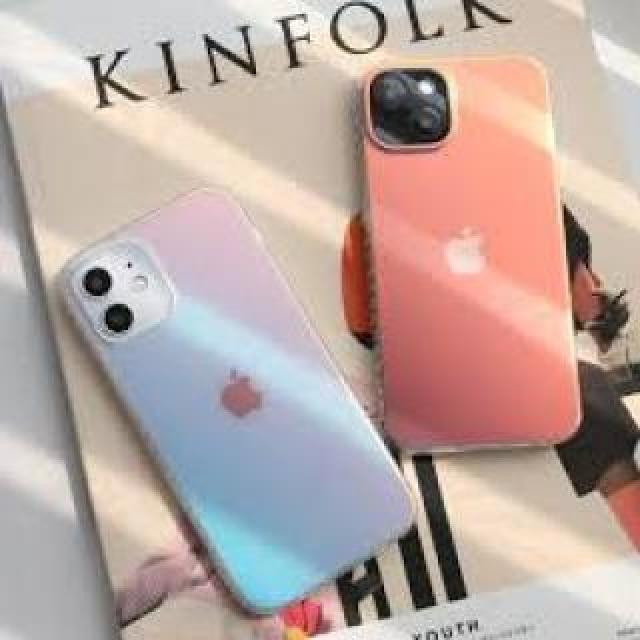smart phone: (63, 167, 400, 618), (357, 28, 580, 485)
